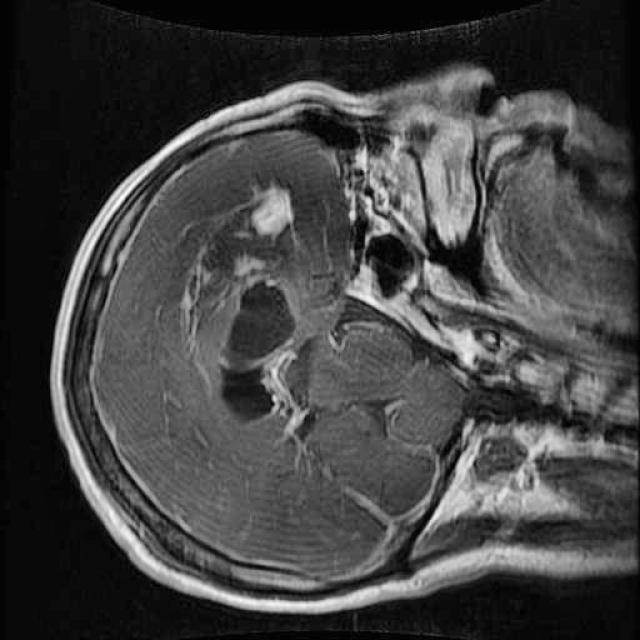Tumor: (178, 164, 328, 438)
